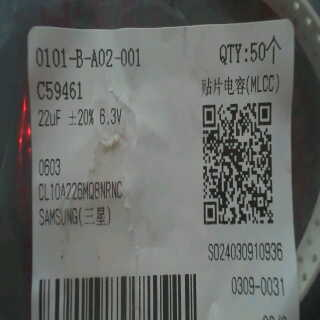22uF: (34, 106, 64, 130)
